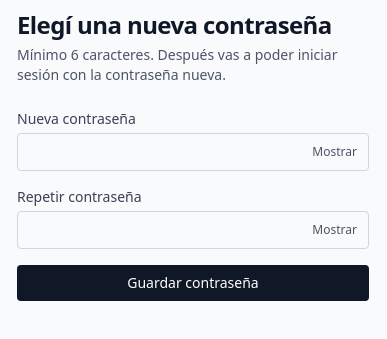
Scenario: ResetPasswordPage · elegir la nueva contraseña › contraseña corta: error inline y CERO requests
Step 1. Type "corta" into the password field labelled "Nueva contraseña" → (193,152), box [17,133,369,171]
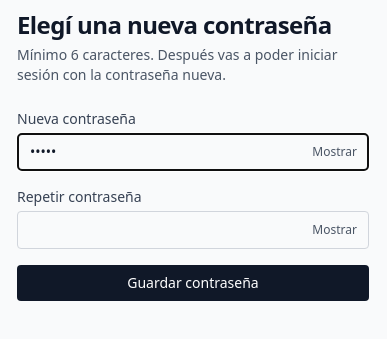
Step 2. Type "corta" into the password field labelled "Repetir contraseña" → (193,230), box [17,211,369,249]
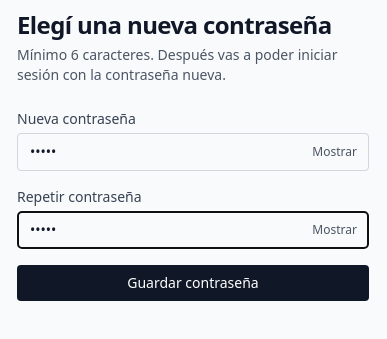
Step 3. Click the button "Guardar contraseña" → (193,283), box [17,265,369,301]
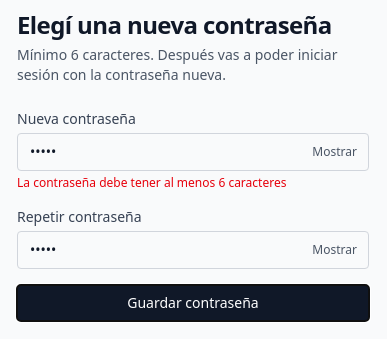
Check: the text "La contraseña debe tener al menos 6 caracteres" is shown, box [17,174,286,191]
